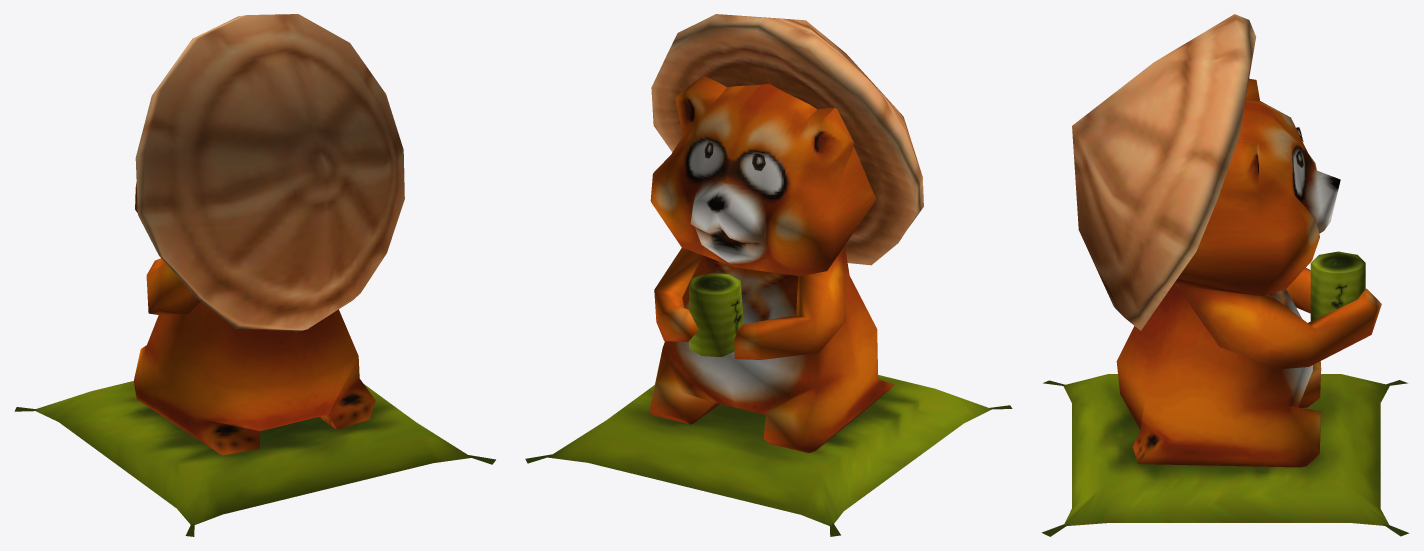
The model's file is view.ico.obj.
3 views of the same model, side by side, from view 1: azimuth 30°, elevation 25°; view 2: azimuth 150°, elevation 25°; view 3: azimuth 270°, elevation 25° (orthographic). The views are drawn at different scales.
Size of the model in its own units: 3.85 by 4.9 by 3.82.
Materials: 1 (1 with a texture image).
